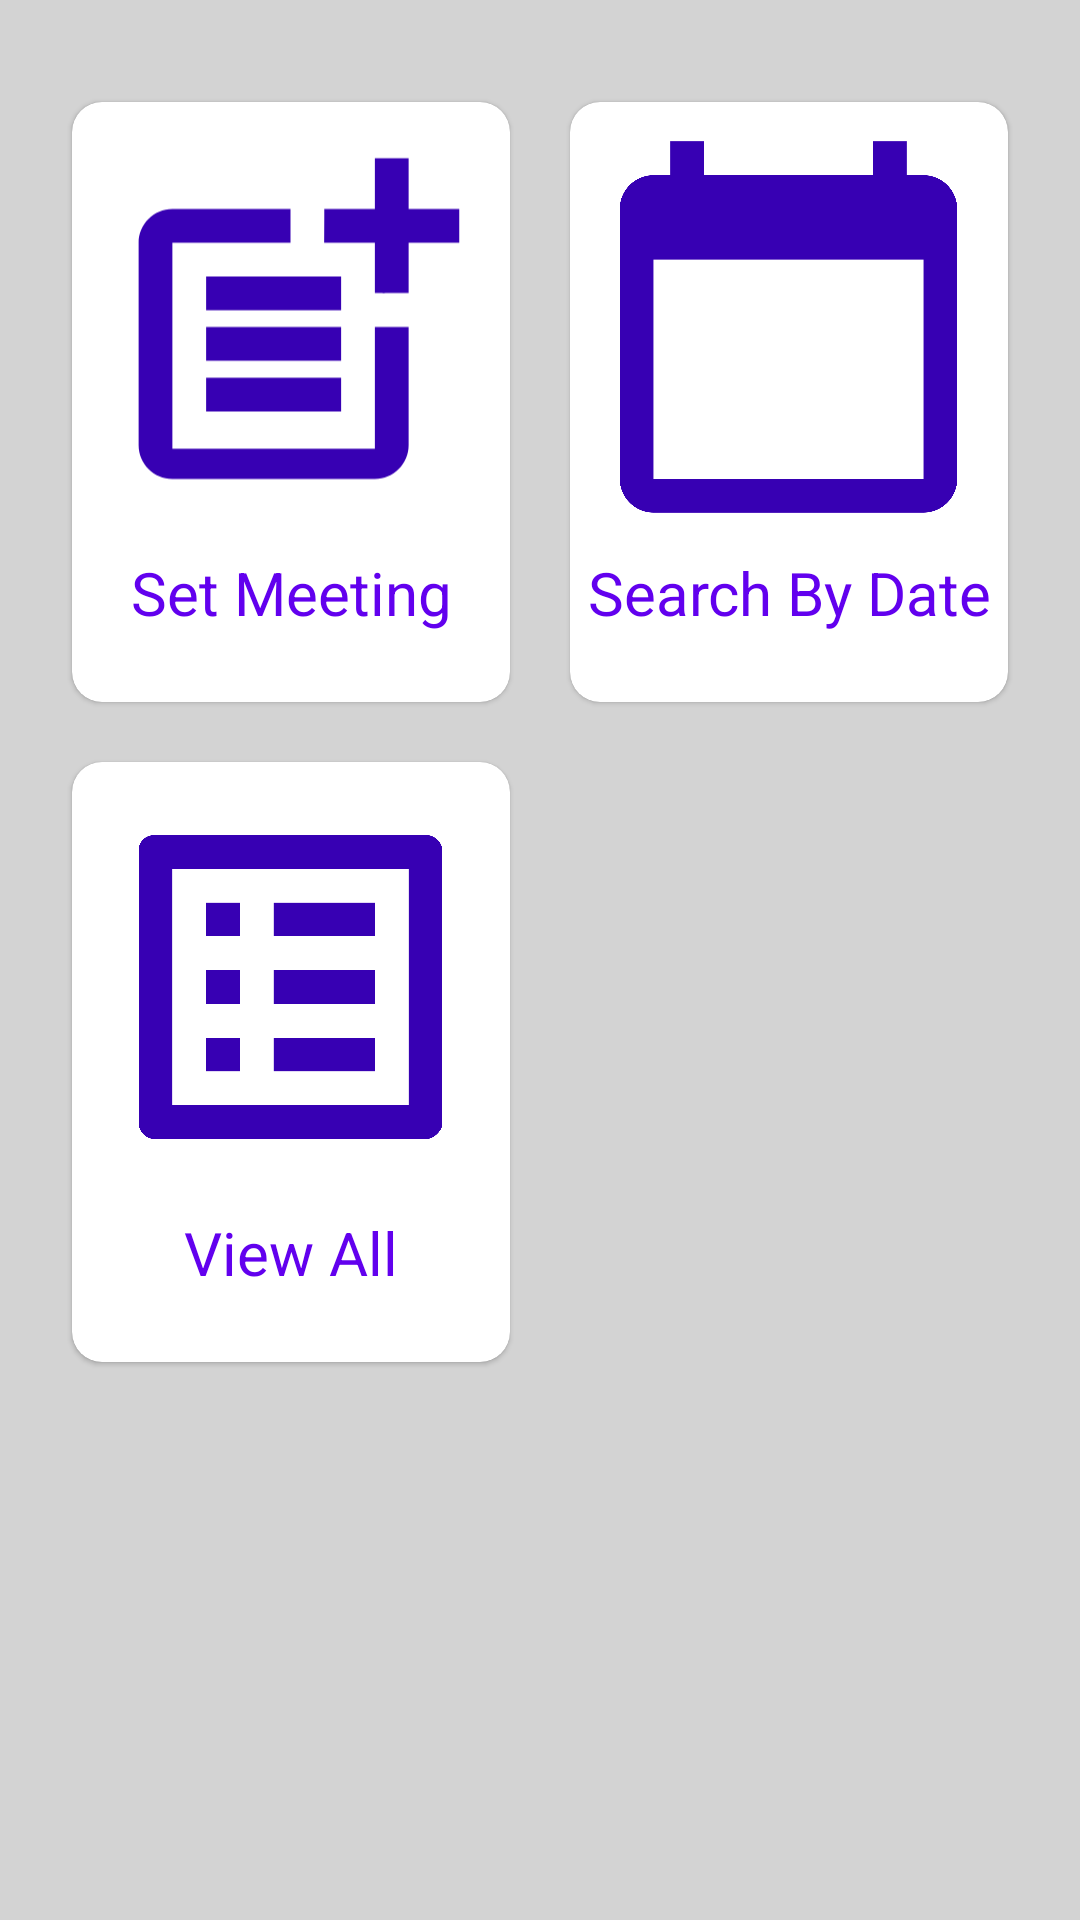

Screen size 1080×1920. Icon name, then its center in pixels as (x=x, y=y):
list: (x=290, y=987)
post add: (x=299, y=318)
